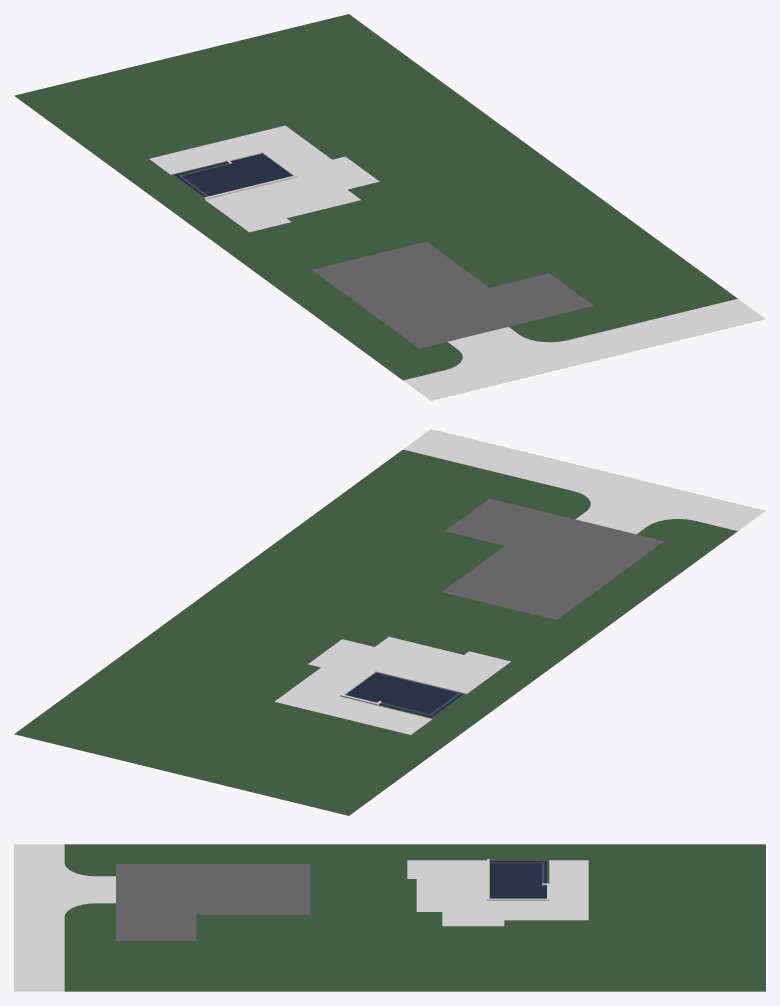
Rendered from site.glb.
3 views of the same model, one above another, from view 1: azimuth 30°, elevation 25°; view 2: azimuth 150°, elevation 25°; view 3: azimuth 270°, elevation 25° (orthographic). The views are drawn at different scales.
Parts seen in each view (by area): view 1: main Site_Grass, main Driveway, main Road, main Pavers, main Water, main Pool; view 2: main Site_Grass, main Driveway, main Road, main Pavers, main Water, main Pool; view 3: main Site_Grass, main Driveway, main Road, main Pavers, main Water, main Pool.
Boxes of the visible parts, x1,y1,x2,y2 form: main Site_Grass: (14, 14, 737, 380); main Driveway: (312, 242, 593, 348); main Road: (403, 299, 765, 400); main Pavers: (149, 125, 379, 232); main Water: (174, 153, 292, 197); main Pool: (179, 151, 297, 199); main Site_Grass: (14, 449, 737, 815); main Driveway: (442, 498, 663, 619); main Road: (403, 429, 765, 534); main Pavers: (274, 636, 510, 734); main Water: (345, 672, 463, 717); main Pool: (340, 670, 466, 715); main Site_Grass: (64, 844, 765, 991); main Driveway: (116, 864, 310, 940); main Road: (14, 844, 115, 991); main Pavers: (407, 860, 588, 926); main Water: (489, 861, 546, 898); main Pool: (487, 859, 549, 900).
Size of the model in its own units: 21.86 by 1.55 by 47.14.
